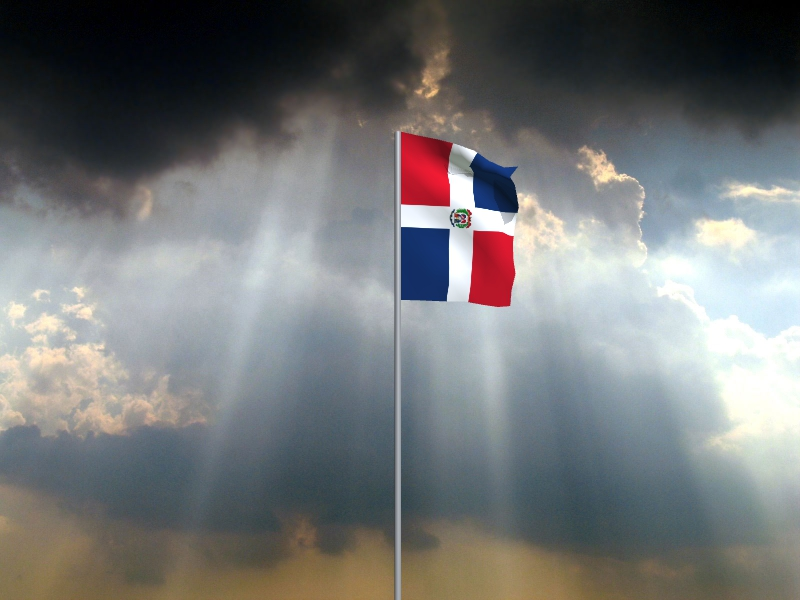do: (402, 133, 520, 309)
